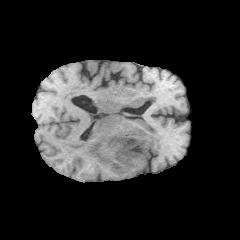glioma: (75, 124, 151, 169)
